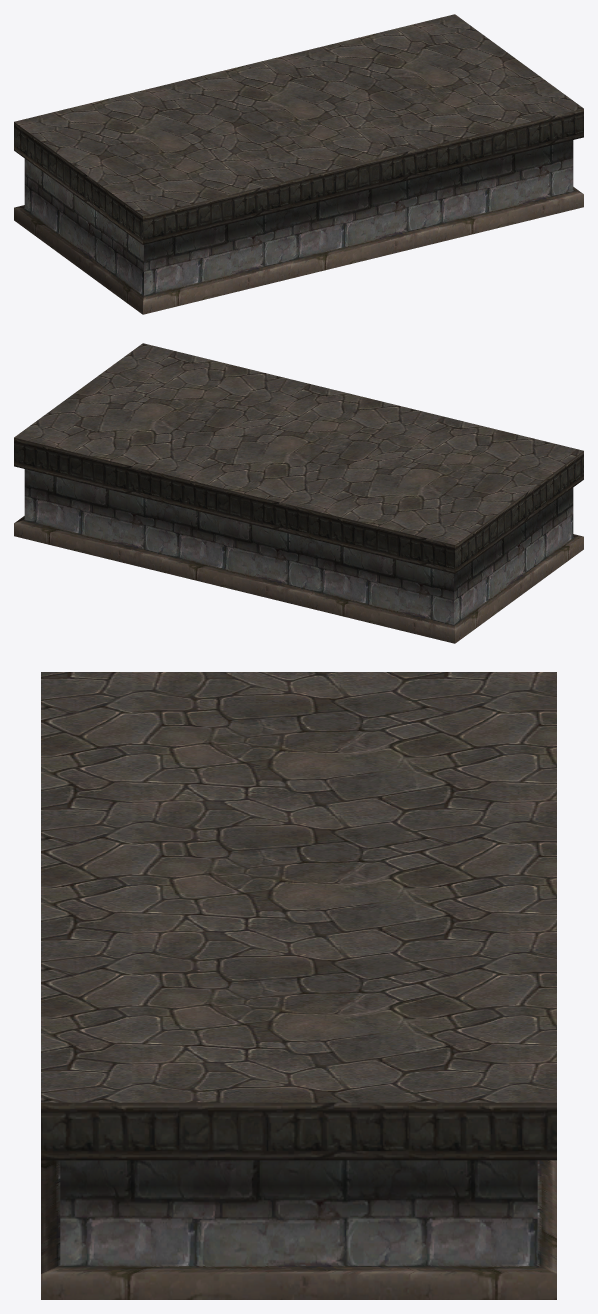
The model's file is environment_Building_qiaoliang_006_a.FBX.
The picture shows the model from 3 angles, top to bottom: view 1: azimuth 30°, elevation 25°; view 2: azimuth 150°, elevation 25°; view 3: azimuth 270°, elevation 25°; orthographic projection. The views are drawn at different scales.
Parts seen in each view (by area): view 1: environment_Building_qiaoliang_006_a1, environment_Building_qiaoliang_006_a2; view 2: environment_Building_qiaoliang_006_a1, environment_Building_qiaoliang_006_a2; view 3: environment_Building_qiaoliang_006_a1, environment_Building_qiaoliang_006_a2.
Part boxes in pixels (x1,y1,x2,y2): environment_Building_qiaoliang_006_a1: (14, 14, 583, 215); environment_Building_qiaoliang_006_a2: (14, 108, 583, 314); environment_Building_qiaoliang_006_a1: (14, 343, 583, 544); environment_Building_qiaoliang_006_a2: (14, 437, 583, 643); environment_Building_qiaoliang_006_a1: (41, 672, 556, 1102); environment_Building_qiaoliang_006_a2: (41, 1102, 556, 1299).
Size of the model in its own units: 425 by 90.77 by 215.
